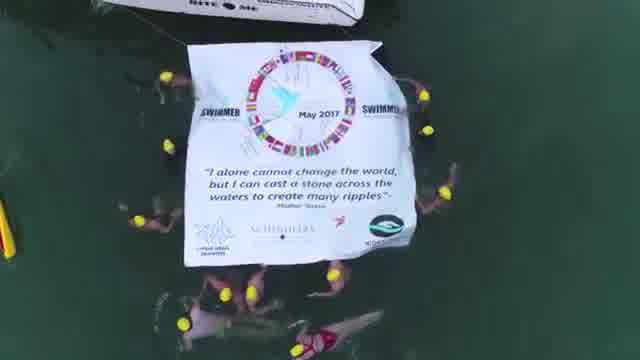swimmer: (282, 316, 392, 357), (414, 158, 464, 221), (170, 302, 230, 346), (302, 261, 359, 303), (389, 72, 434, 115), (124, 205, 182, 236), (198, 273, 240, 308), (239, 268, 269, 308), (151, 72, 199, 94)
